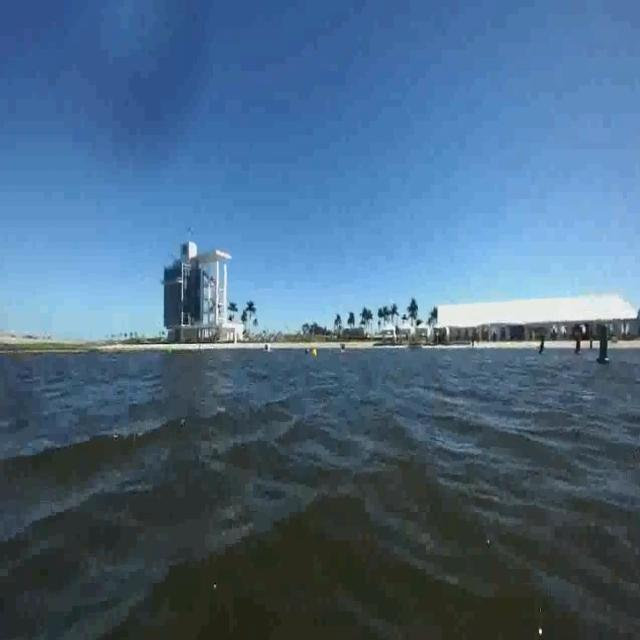green-column-buoy: (594, 324, 609, 366)
yellow-buoy: (312, 347, 318, 359)
